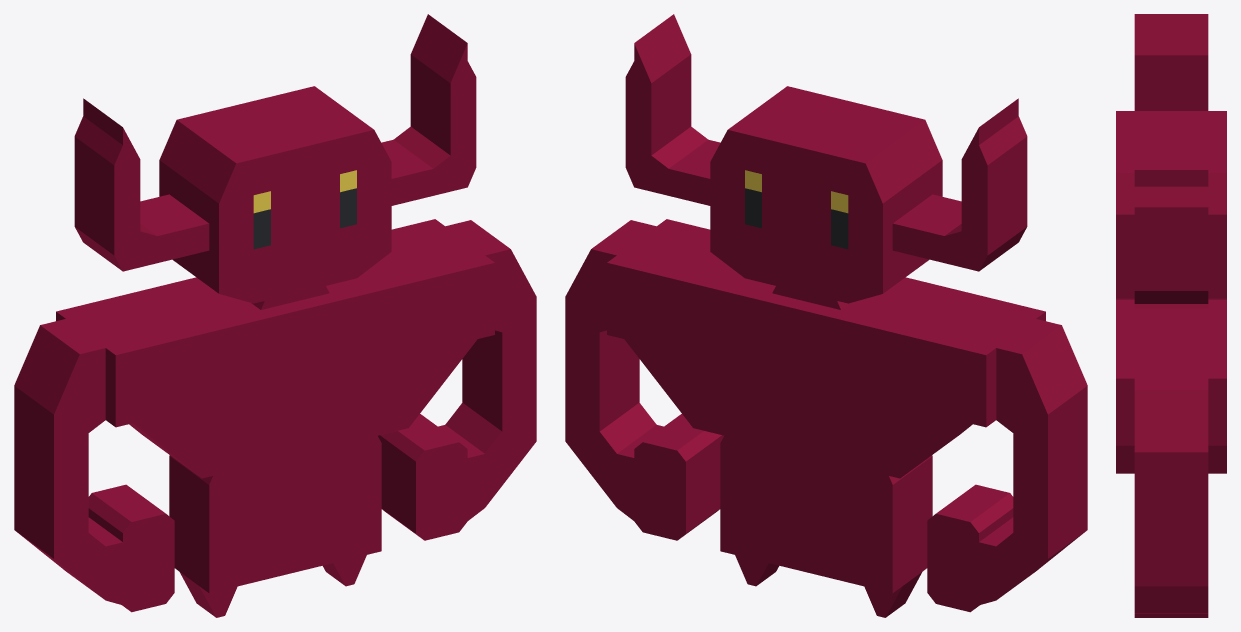
File: demon.obj
3 renders of one model, left to right at view 1: azimuth 30°, elevation 25°; view 2: azimuth 150°, elevation 25°; view 3: azimuth 270°, elevation 25°, orthographic. The views are drawn at different scales.
Size of the model in its own units: 28 by 29 by 6.
Materials: 1 (1 with a texture image).
